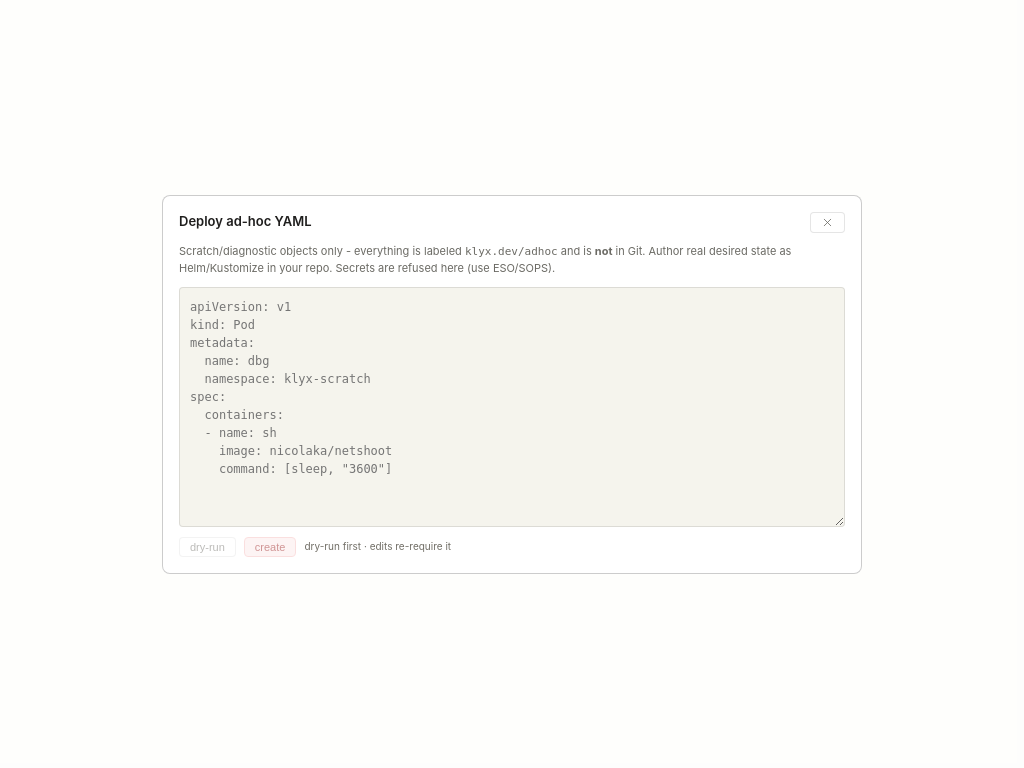
Test: AdhocComposer › names the conditional namespace-deletion risk when the unit manages the namespace
Step 1. Replace the text in the text box with placeholder "apiVersion" with "doc" → {"x": 512, "y": 406}, box [179,286,845,526]
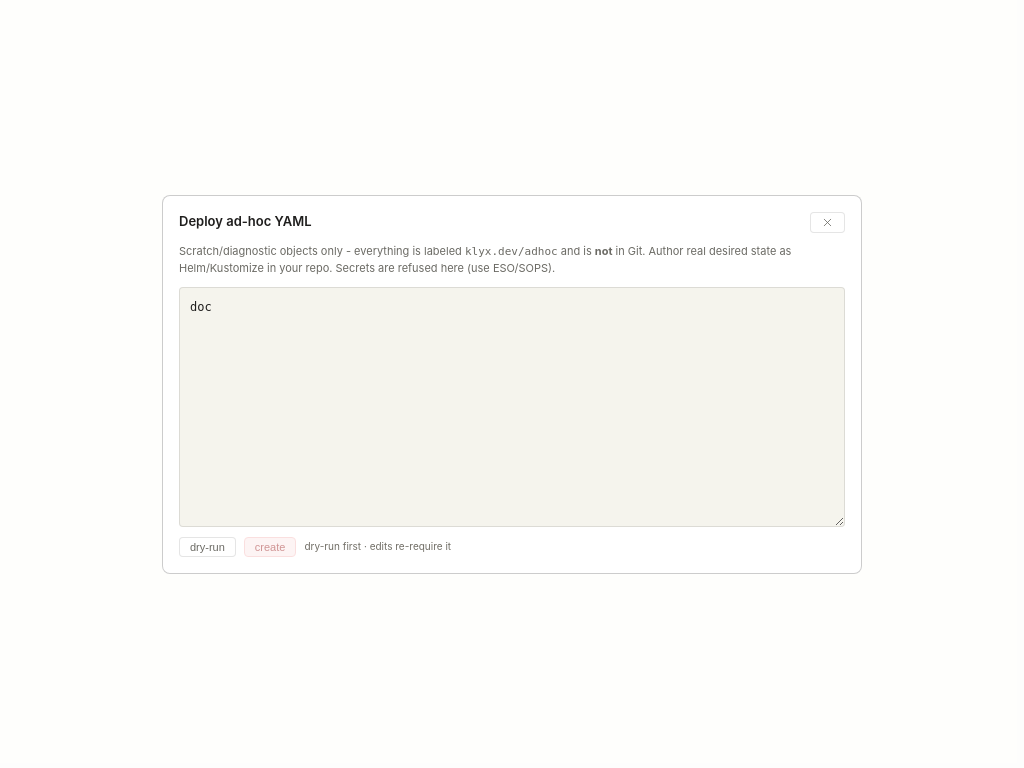
Step 2. Click the button "dry-run" → {"x": 207, "y": 546}, box [179,536,236,556]
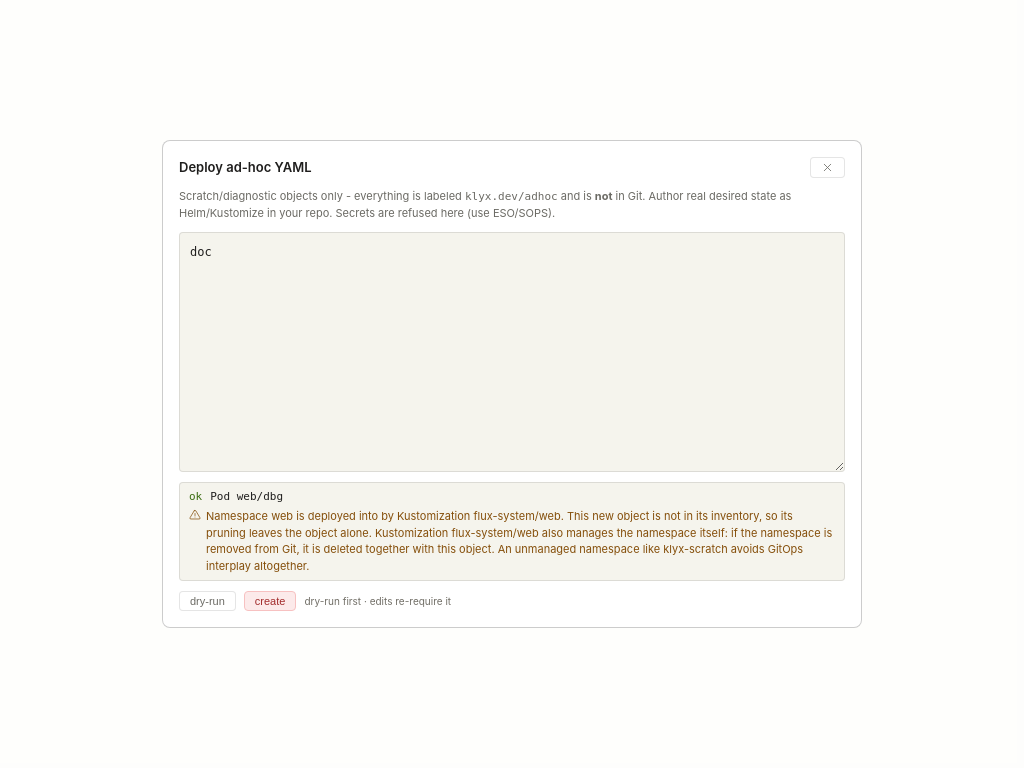
Now the element with test id "namespace-context" shows "if the namespace is removed from Git, it is deleted together with this object", box [206,509,832,573]
